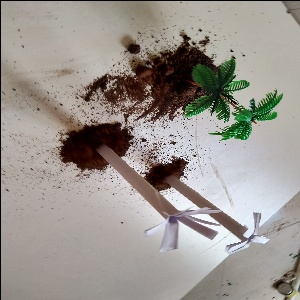plant: (171, 43, 284, 143)
weed: (92, 144, 211, 256), (166, 168, 275, 257)
